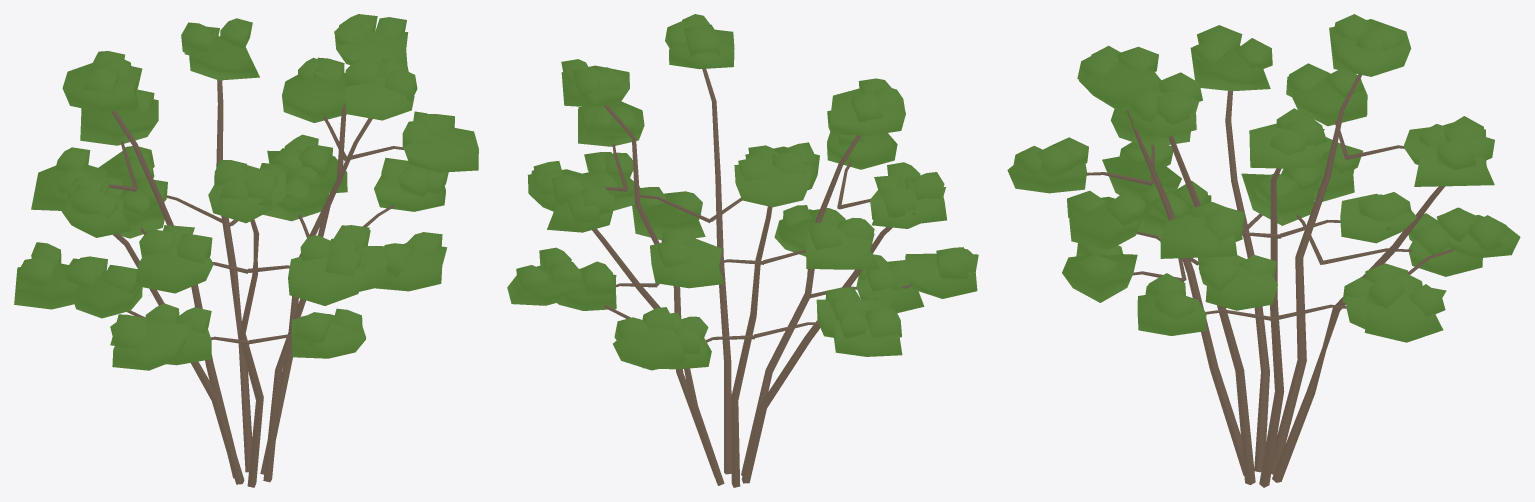
Rendered from Blender_FlameAzalea_1.glb.
3 views of the same model, side by side, from view 1: azimuth 30°, elevation 25°; view 2: azimuth 150°, elevation 25°; view 3: azimuth 270°, elevation 25° (orthographic). The views are drawn at different scales.
Parts seen in each view (by area): view 1: Blender_FlameAzalea_1; view 2: Blender_FlameAzalea_1; view 3: Blender_FlameAzalea_1.
Part boxes in pixels (x1,y1,x2,y2): Blender_FlameAzalea_1: (14, 14, 478, 487); Blender_FlameAzalea_1: (507, 14, 978, 487); Blender_FlameAzalea_1: (1007, 14, 1520, 487).
Size of the model in its own units: 2.32 by 2.39 by 2.52.
